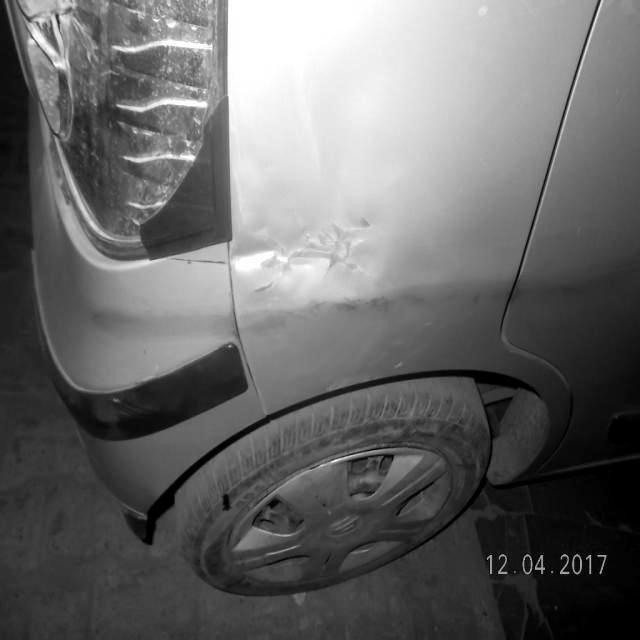Taillight-Damage: (0, 0, 232, 260)
quaterpanel-dent: (223, 1, 518, 442)
